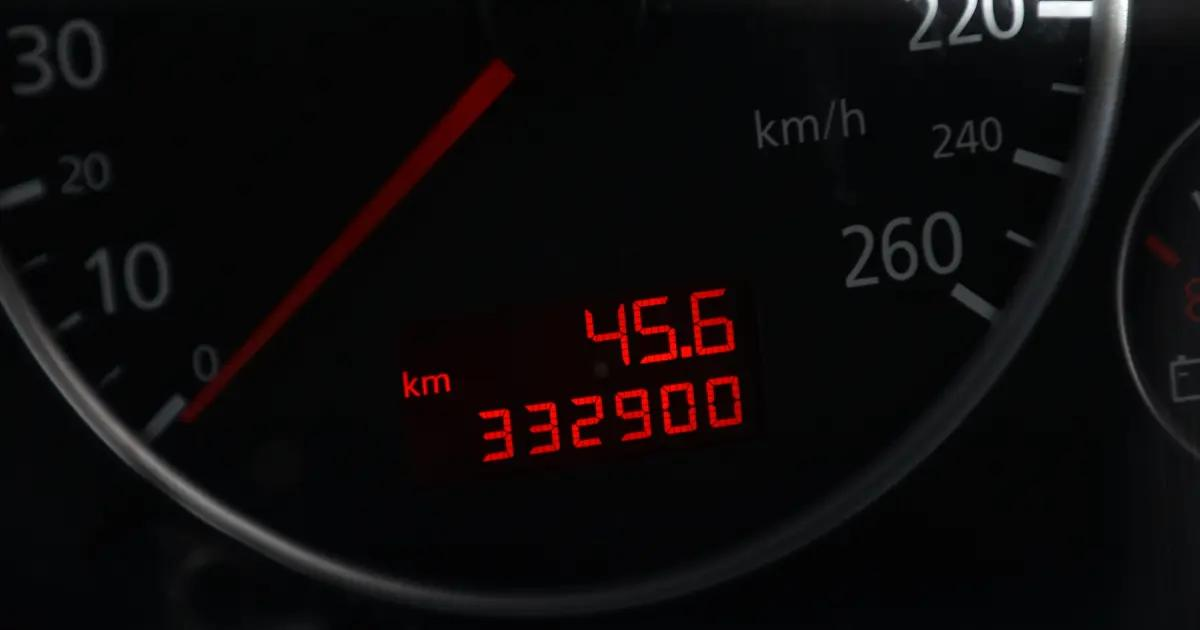-: (680, 344, 692, 359)
0: (660, 382, 699, 435), (705, 376, 743, 428)
2: (569, 394, 606, 450)
3: (523, 401, 561, 456), (479, 408, 515, 464)
4: (581, 298, 632, 371)
5: (633, 294, 678, 367)
6: (690, 287, 736, 355)
9: (613, 388, 652, 442)
X: (421, 370, 451, 398), (399, 369, 420, 401)
odometer: (389, 270, 773, 479)
